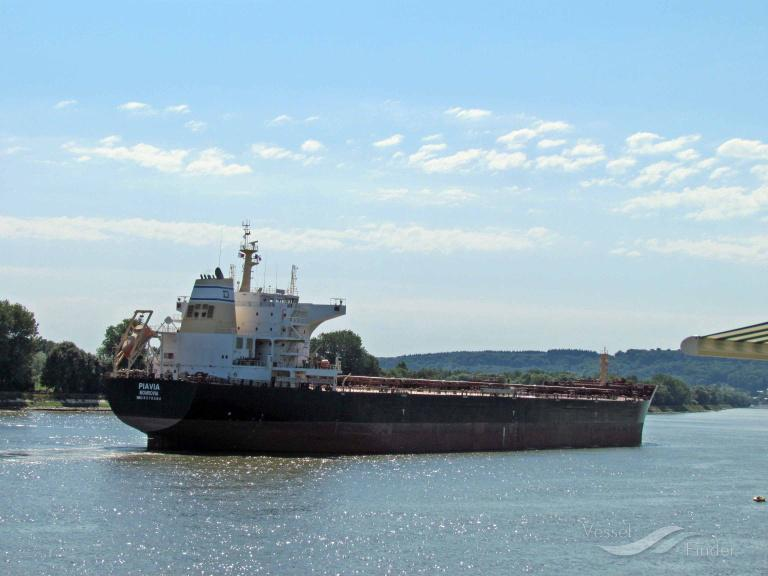OCR: (132, 374, 172, 407)
